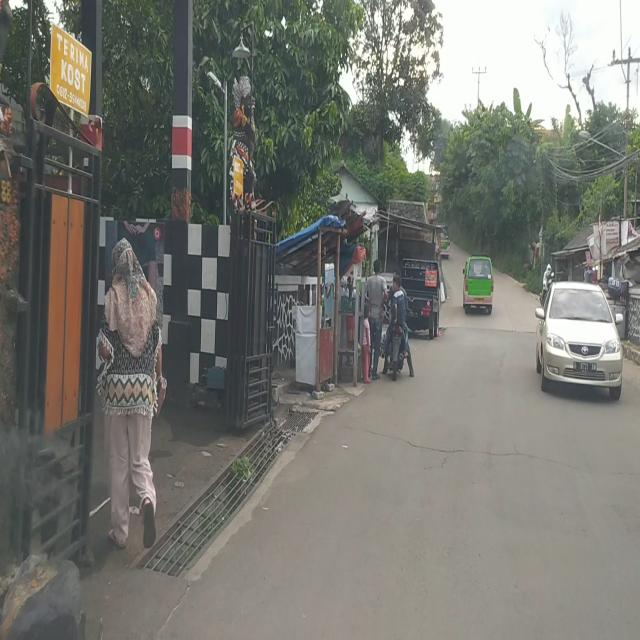Sewer Cover: (342, 426, 607, 474)
